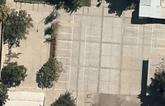parkingspot: (52, 12, 74, 91), (82, 26, 102, 94), (121, 17, 140, 58), (150, 20, 165, 58)
